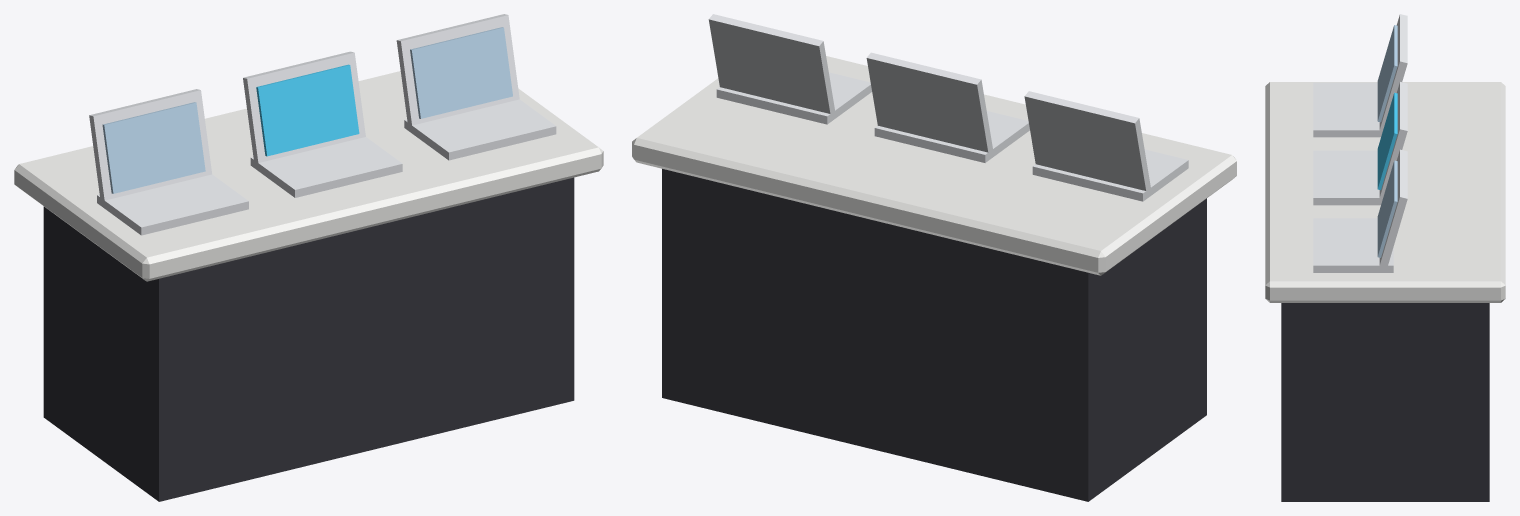
Rendered from LaptopTable.fbx.
The picture shows the model from 3 angles, left to right: view 1: azimuth 30°, elevation 25°; view 2: azimuth 150°, elevation 25°; view 3: azimuth 270°, elevation 25°; orthographic projection. The views are drawn at different scales.
Parts seen in each view (by area): view 1: LaptopTable; view 2: LaptopTable; view 3: LaptopTable.
Boxes of the visible parts, x1,y1,x2,y2 form: LaptopTable: [14, 14, 603, 501]; LaptopTable: [632, 14, 1236, 501]; LaptopTable: [1265, 14, 1505, 501].
Bounding box in the file's own units: 6 × 4.2 × 3.
1 material, 1 textured.
